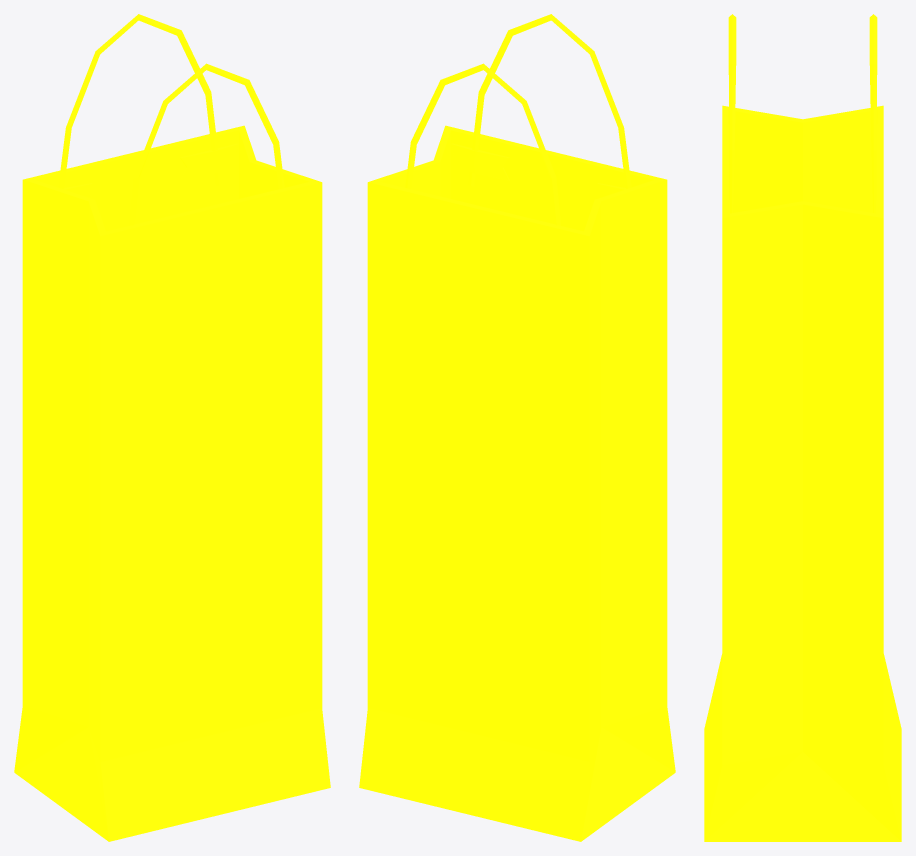
Rendered from bag-gift-christmas-c.glb.
3 renders of one model, left to right at view 1: azimuth 30°, elevation 25°; view 2: azimuth 150°, elevation 25°; view 3: azimuth 270°, elevation 25°, orthographic. The views are drawn at different scales.
Parts seen in each view (by area): view 1: bag_gift_christmas_c; view 2: bag_gift_christmas_c; view 3: bag_gift_christmas_c.
Boxes of the visible parts, left/top/right/bottom form: bag_gift_christmas_c: left=14, top=14, right=330, bottom=841; bag_gift_christmas_c: left=359, top=14, right=675, bottom=841; bag_gift_christmas_c: left=704, top=14, right=901, bottom=841.
Size of the model in its own units: 0.1942 by 0.6203 by 0.1438.
1 material, 1 textured.
